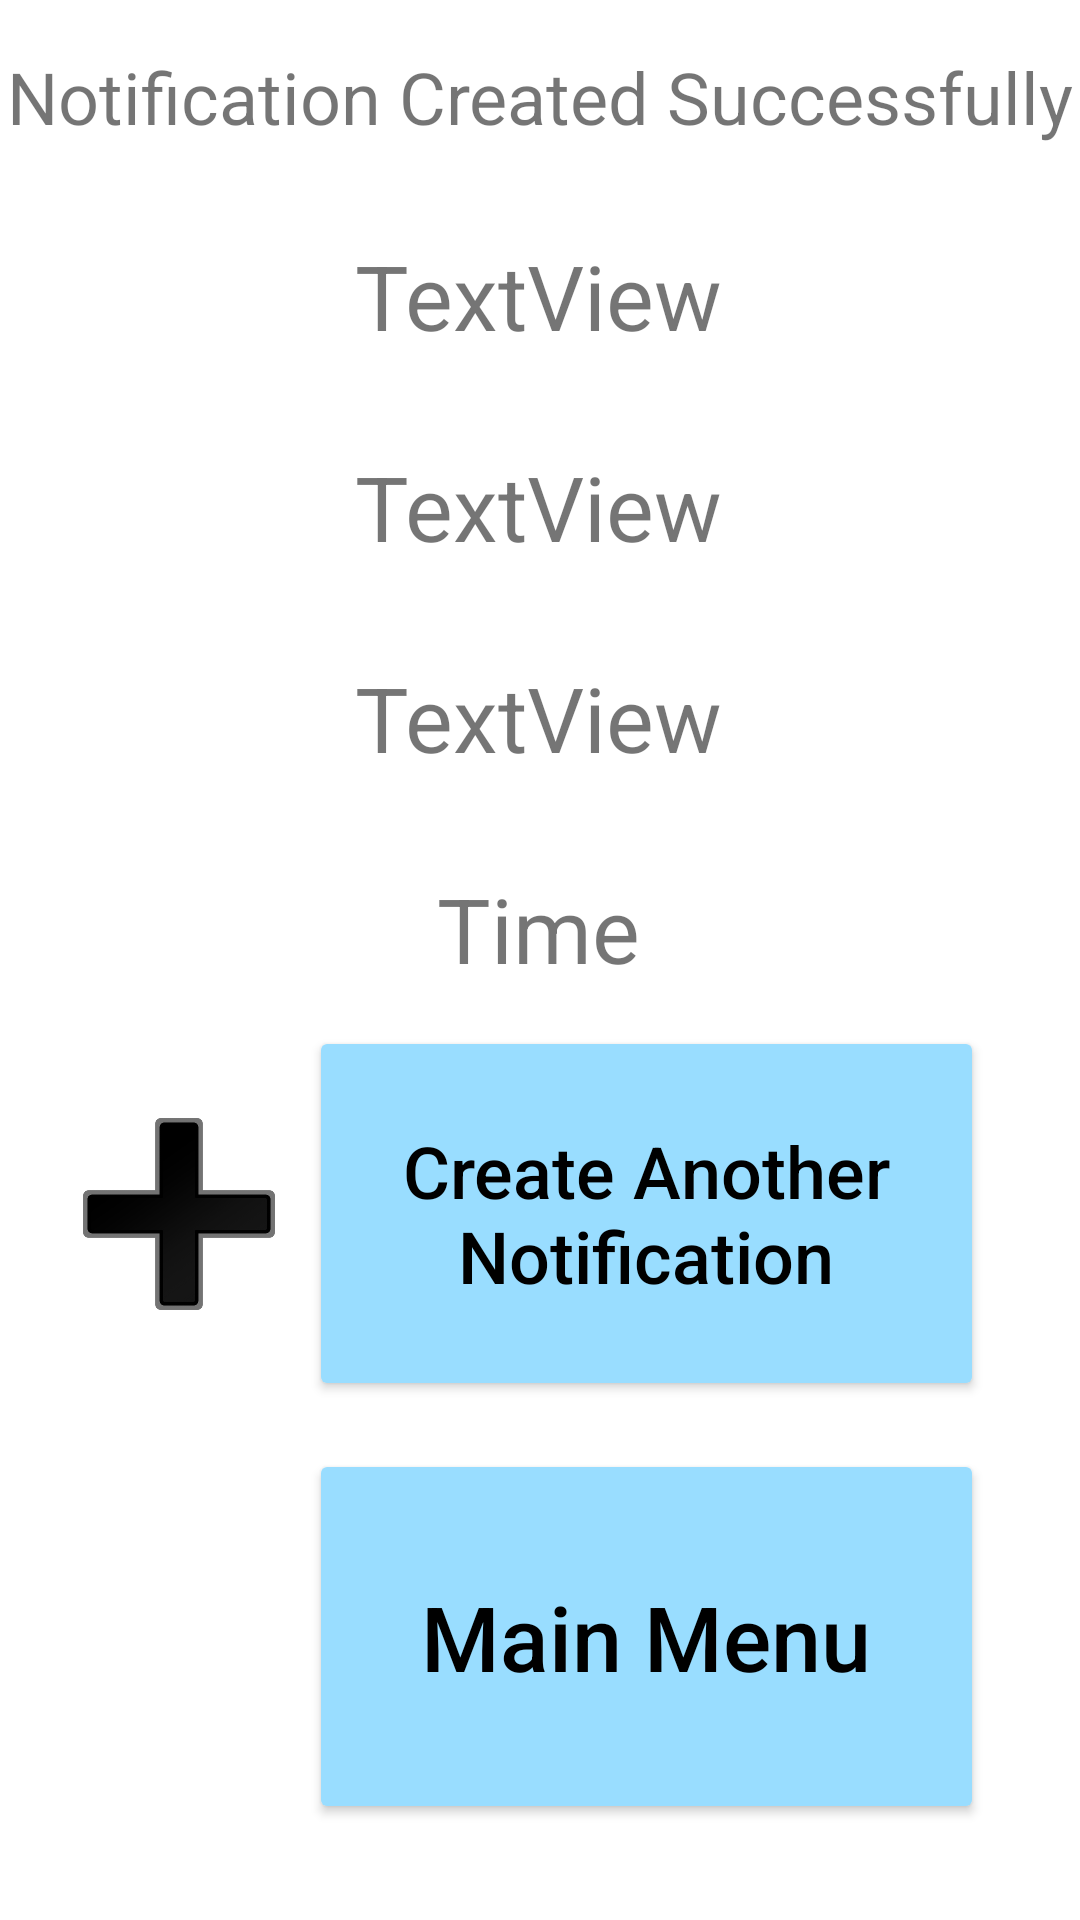

Screen size 1080x1920. Icon name, then its center in pixels as [x,y]:
plus: [179,1214]
